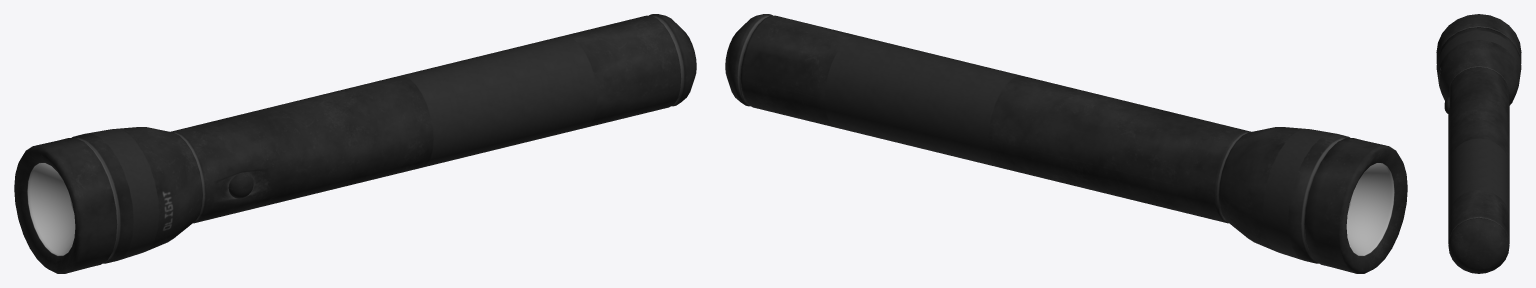
Rendered from flashlight.glb.
3 renders of one model, left to right at view 1: azimuth 30°, elevation 25°; view 2: azimuth 150°, elevation 25°; view 3: azimuth 270°, elevation 25°, orthographic. The views are drawn at different scales.
Visible parts, largest first — view 1: 1_low, 3_low; view 2: 1_low; view 3: 1_low, 3_low.
Part boxes in pixels (x1,y1,x2,y2): 1_low: (14, 14, 696, 273); 3_low: (228, 172, 253, 198); 1_low: (725, 14, 1407, 273); 1_low: (1436, 14, 1521, 273); 3_low: (1444, 97, 1449, 114).
Size of the model in its own units: 0.4045 by 0.0725 by 0.0725.
1 material, 1 textured.
